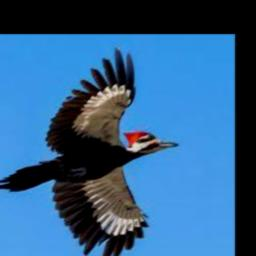Woodpecker: (0, 45, 179, 256)
